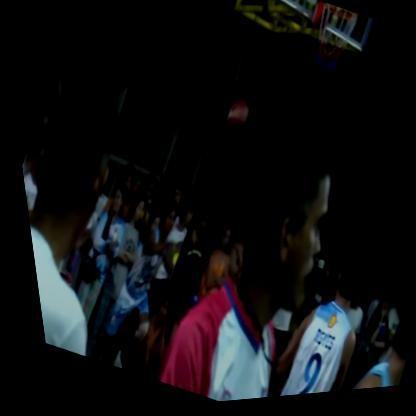basketball: (207, 91, 259, 152)
rim: (279, 0, 369, 101)
